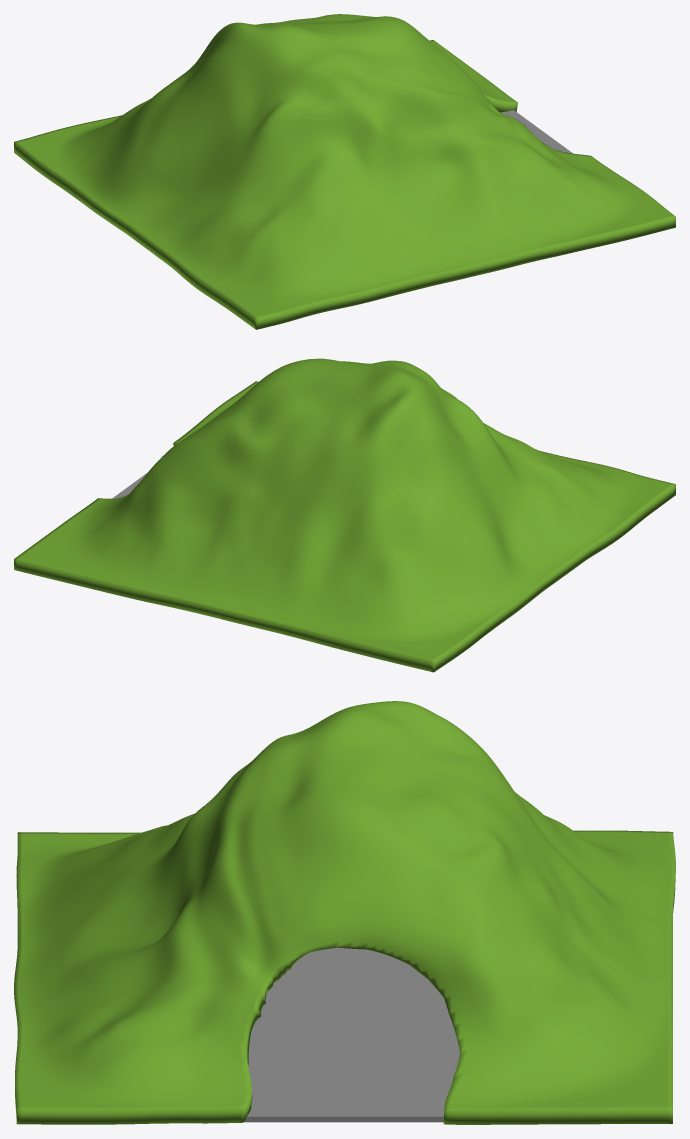
File: Cave 3.fbx
The picture shows the model from 3 angles, top to bottom: view 1: azimuth 30°, elevation 25°; view 2: azimuth 150°, elevation 25°; view 3: azimuth 270°, elevation 25°; orthographic projection. The views are drawn at different scales.
Parts seen in each view (by area): view 1: Landscape.001, Plane; view 2: Landscape.001; view 3: Landscape.001, Plane.
Boxes of the visible parts, x1,y1,x2,y2 form: Landscape.001: [14, 14, 675, 329]; Plane: [501, 110, 572, 153]; Landscape.001: [14, 358, 675, 672]; Landscape.001: [14, 701, 675, 1124]; Plane: [244, 947, 459, 1122].
Size of the model in its own units: 202 by 80.01 by 202.
